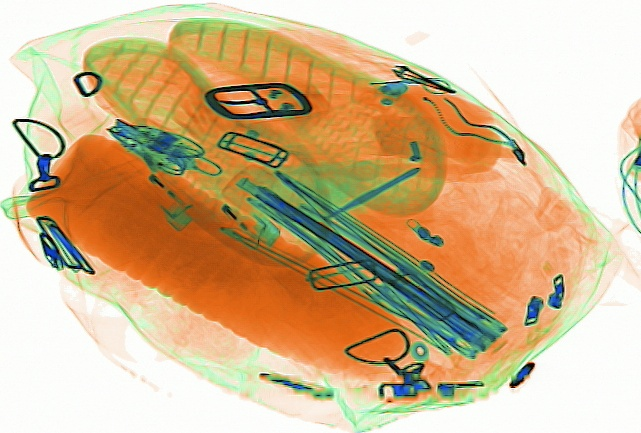lighter: (100, 138, 197, 231), (171, 167, 280, 248)
